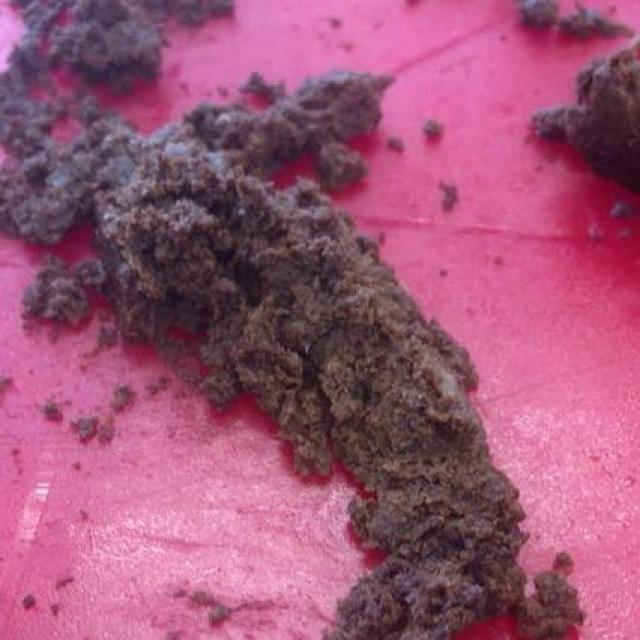cake: (19, 71, 555, 629)
